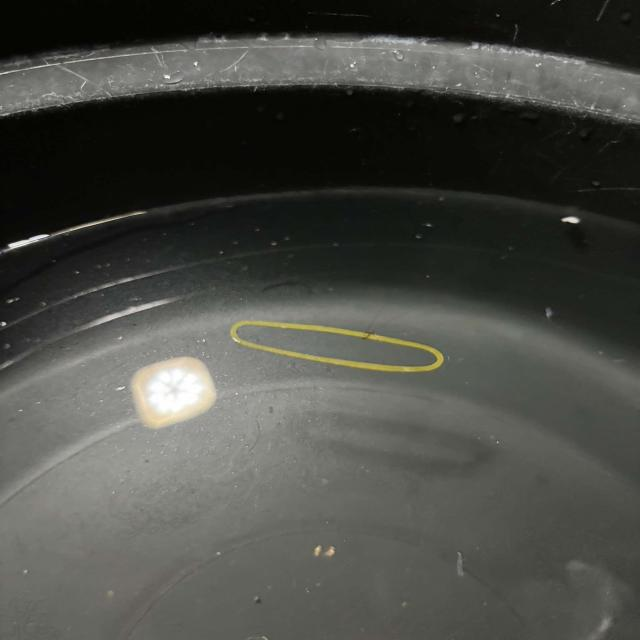Rubberband: (230, 321, 445, 373)
